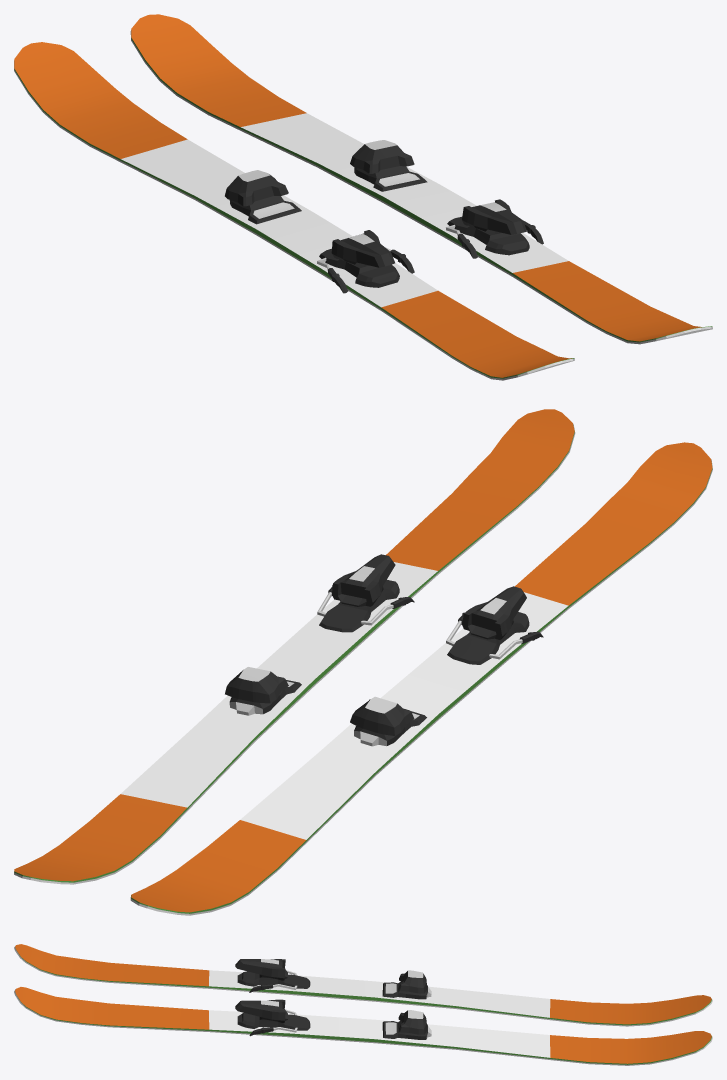
3 views of the same model, one above another, from view 1: azimuth 30°, elevation 25°; view 2: azimuth 150°, elevation 25°; view 3: azimuth 270°, elevation 25° (orthographic). The views are drawn at different scales.
Visible parts, largest first — view 1: Ski_L, Ski_R; view 2: Ski_L, Ski_R; view 3: Ski_R, Ski_L.
Boxes of the visible parts, x1,y1,x2,y2 form: Ski_L: (14,42,574,380); Ski_R: (130,14,712,344); Ski_L: (130,442,712,915); Ski_R: (14,409,575,884); Ski_R: (14,987,712,1065); Ski_L: (14,944,712,1026).
Bounding box in the file's own units: 0.4057 × 0.196 × 1.85.
